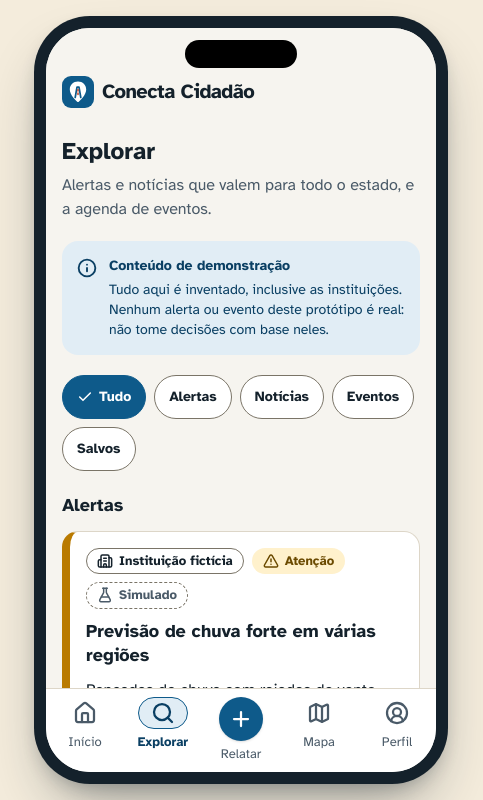
Scenario: Estado como visitante › os filtros por tipo mostram só aquele tipo
Click the button "Eventos" at coordinates (373, 397), box [332,375,414,419]
(page scrolled)
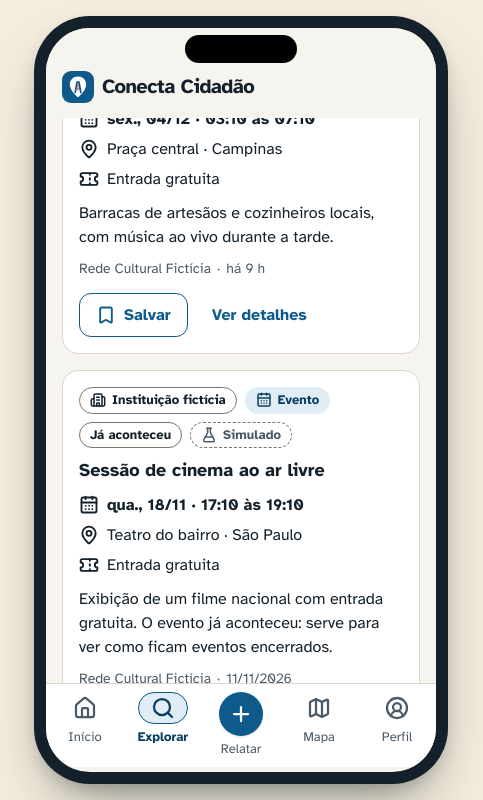
Check: the text "Evento" is shown, box [245,387,330,414]
Check: the text "notícia" is gone
